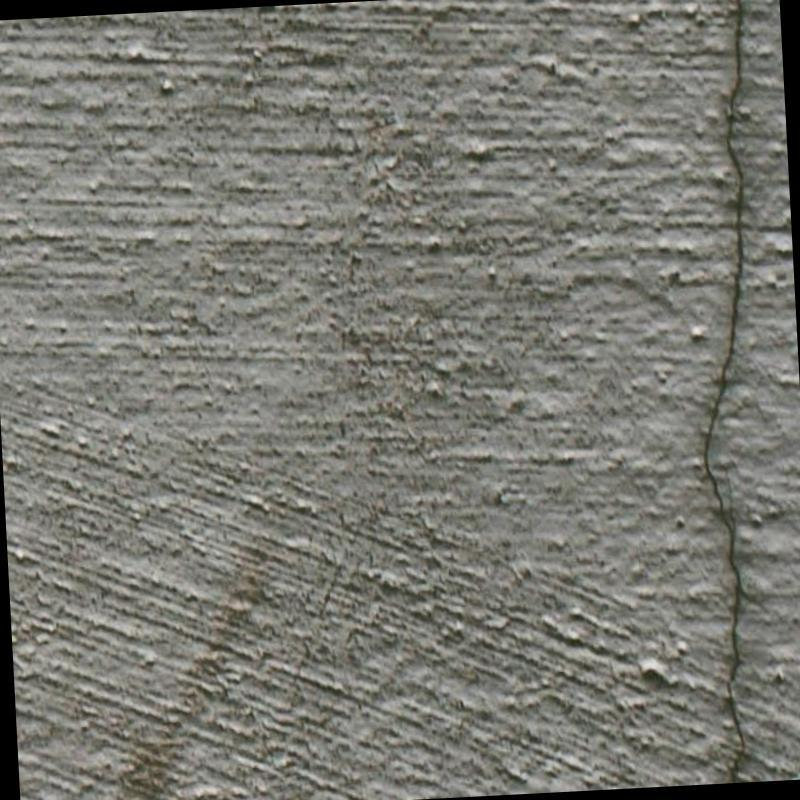crack: (703, 0, 745, 782)
